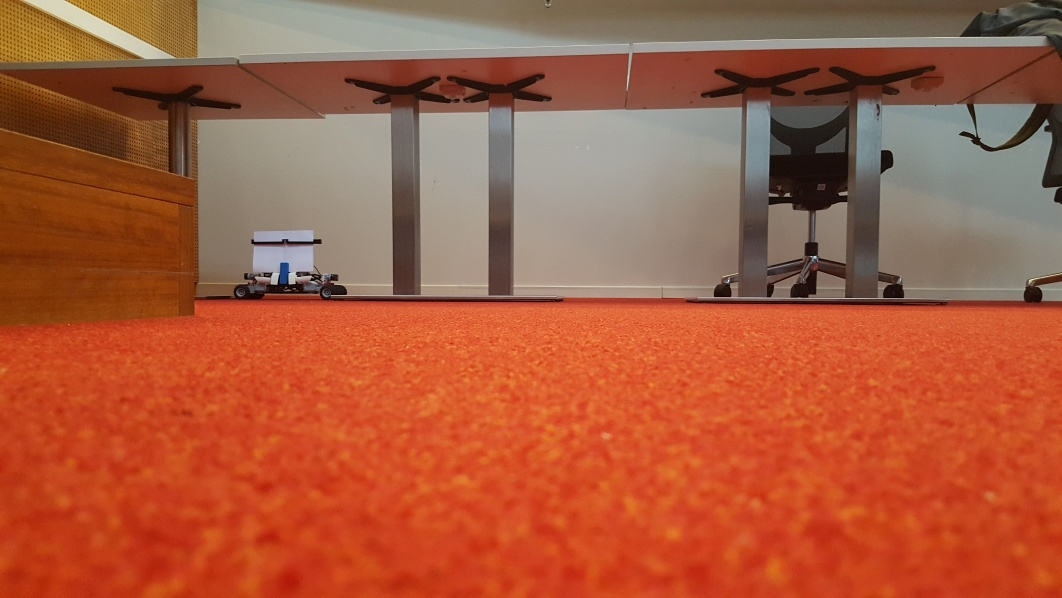car: (233, 227, 346, 302)
